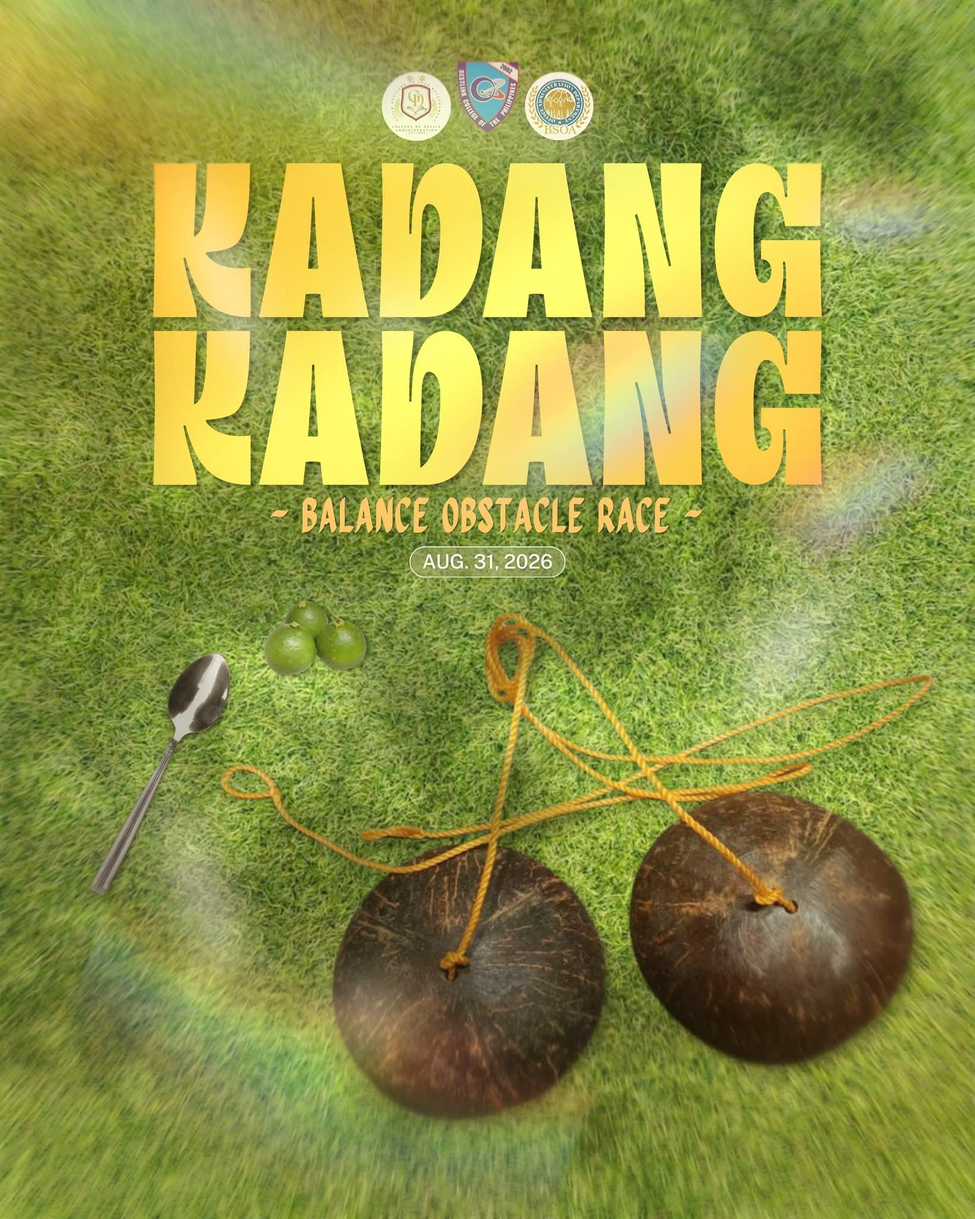embellishment: (221, 611, 935, 1120), (90, 654, 232, 893), (265, 602, 367, 675)
logo: (377, 67, 454, 147), (521, 68, 599, 143), (454, 56, 523, 134)
text: (144, 156, 831, 494), (266, 494, 707, 541), (419, 550, 554, 571)
underlay: (410, 545, 567, 577)
